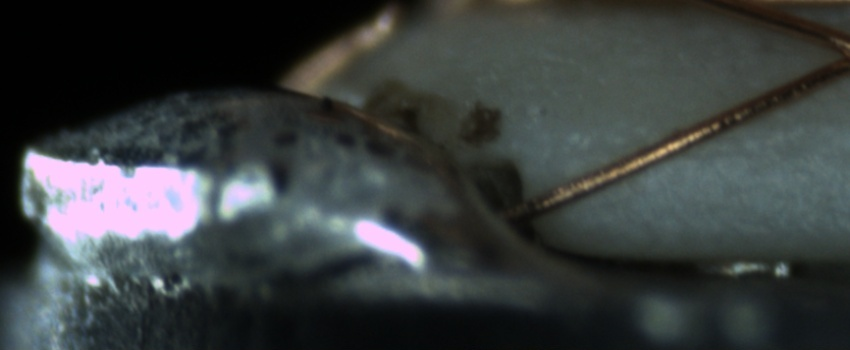CL: (804, 25, 850, 89)
DL: (571, 122, 750, 179)
